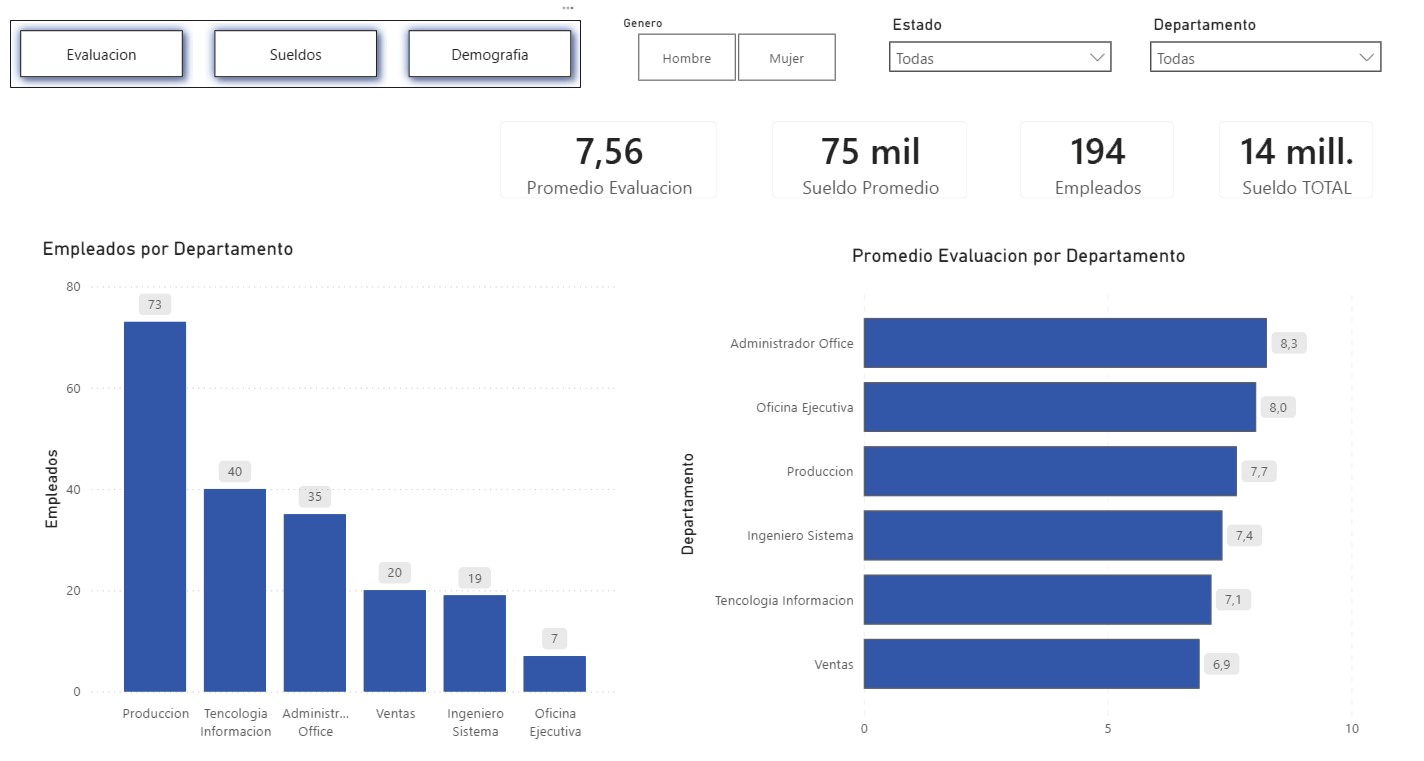

Layout of this report page (visuals, bound fields, positions):
{"tool":"powerbi","page":{"name":"Resumen RRHH","canvas":[1280,720],"ordinal":0},"visuals":[{"type":"cardVisual","fields":{"Data":["MEDIDAS.Total_Sueldo"]},"box":[1071.3,94.9,171.6,103.5],"z":0},{"type":"cardVisual","fields":{"Data":["Tabla1_2.Empleados"]},"box":[894.4,94.9,171.6,103.5],"z":1000},{"type":"cardVisual","fields":{"Data":["MEDIDAS.Sueldo_promedio"]},"box":[673.6,94.9,208.7,103.5],"z":2000},{"type":"cardVisual","fields":{"Data":["MEDIDAS.Promedio_Evaluacion"]},"box":[431.3,94.9,227.7,103.5],"z":3000},{"type":"clusteredColumnChart","fields":{"Category":["Tabla1_2.Departamento"],"Y":["Tabla1_2.Empleados"]},"box":[35.4,215.4,523.9,455.9],"z":4000},{"type":"clusteredBarChart","title":"Promedio Evaluacion por Departamento ","fields":{"Category":["Tabla1_2.Departamento"],"Y":["MEDIDAS.Promedio_Evaluacion_por_Departamento"]},"box":[602.2,221.9,616.2,449.4],"z":5000},{"type":"slicer","fields":{"Values":["Tabla1_2.Departamento"]},"box":[1017.1,13.1,225.6,69.9],"z":6000},{"type":"slicer","fields":{"Values":["Tabla1_2.Genero"]},"box":[545.4,13.1,225.6,69.9],"z":7000},{"type":"slicer","fields":{"Values":["Tabla1_2.Estado"]},"box":[785,13.1,218.2,69.9],"z":8000},{"type":"pageNavigator","box":[11.2,22.4,509,60.6],"z":9000}]}

Visuals, with their boxes on the page's 1280x720 design canvas (x1, y1, x2, y2). These are canvas units, not pixel positions in the 1424x761 screenshot, which may show the page scaled, cropped or inside an application window:
cardVisual - MEDIDAS.Total_Sueldo: (1071, 95, 1243, 198)
cardVisual - Tabla1_2.Empleados: (894, 95, 1066, 198)
cardVisual - MEDIDAS.Sueldo_promedio: (674, 95, 882, 198)
cardVisual - MEDIDAS.Promedio_Evaluacion: (431, 95, 659, 198)
clusteredColumnChart - Tabla1_2.Departamento x Tabla1_2.Empleados: (35, 215, 559, 671)
"Promedio Evaluacion por Departamento " clusteredBarChart: (602, 222, 1218, 671)
slicer - Tabla1_2.Departamento: (1017, 13, 1243, 83)
slicer - Tabla1_2.Genero: (545, 13, 771, 83)
slicer - Tabla1_2.Estado: (785, 13, 1003, 83)
pageNavigator: (11, 22, 520, 83)
